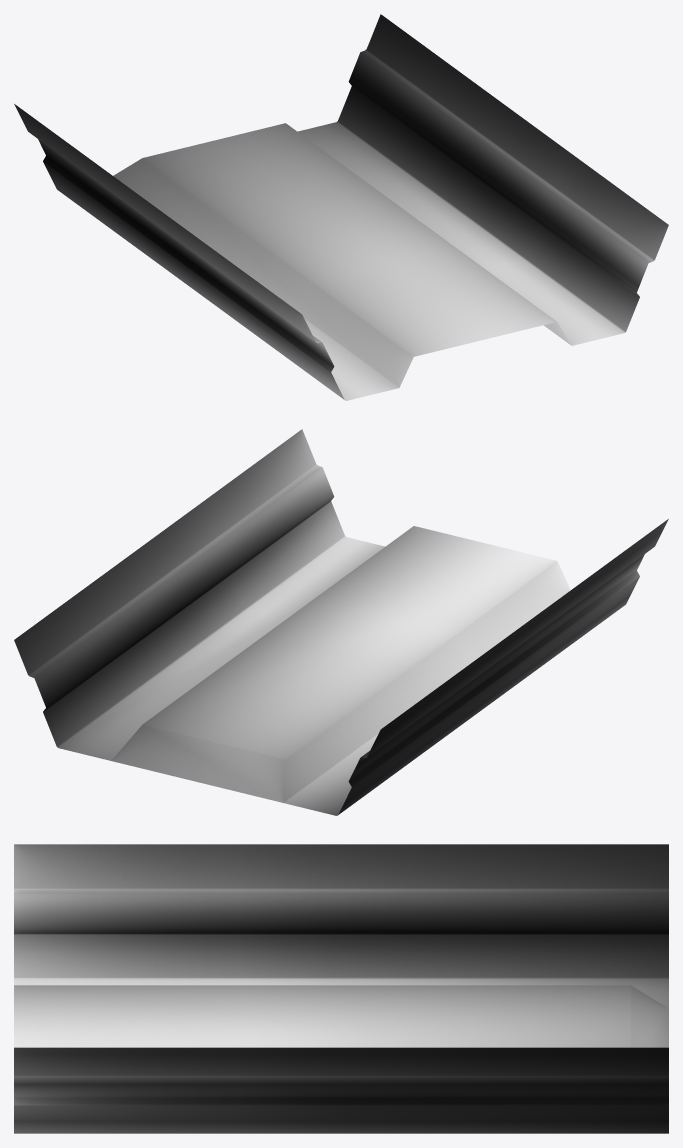
File: MS_Entrance_Roof_Decoration.fbx
3 views of the same model, one above another, from view 1: azimuth 30°, elevation 25°; view 2: azimuth 150°, elevation 25°; view 3: azimuth 270°, elevation 25° (orthographic). The views are drawn at different scales.
Parts seen in each view (by area): view 1: MS_Entrance_Roof_Decoration; view 2: MS_Entrance_Roof_Decoration; view 3: MS_Entrance_Roof_Decoration.
Part boxes in pixels (bbox=[...]): MS_Entrance_Roof_Decoration: bbox=[14, 14, 668, 400]; MS_Entrance_Roof_Decoration: bbox=[14, 429, 668, 815]; MS_Entrance_Roof_Decoration: bbox=[14, 844, 668, 1133].
Size of the model in its own units: 169 by 42.73 by 230.
